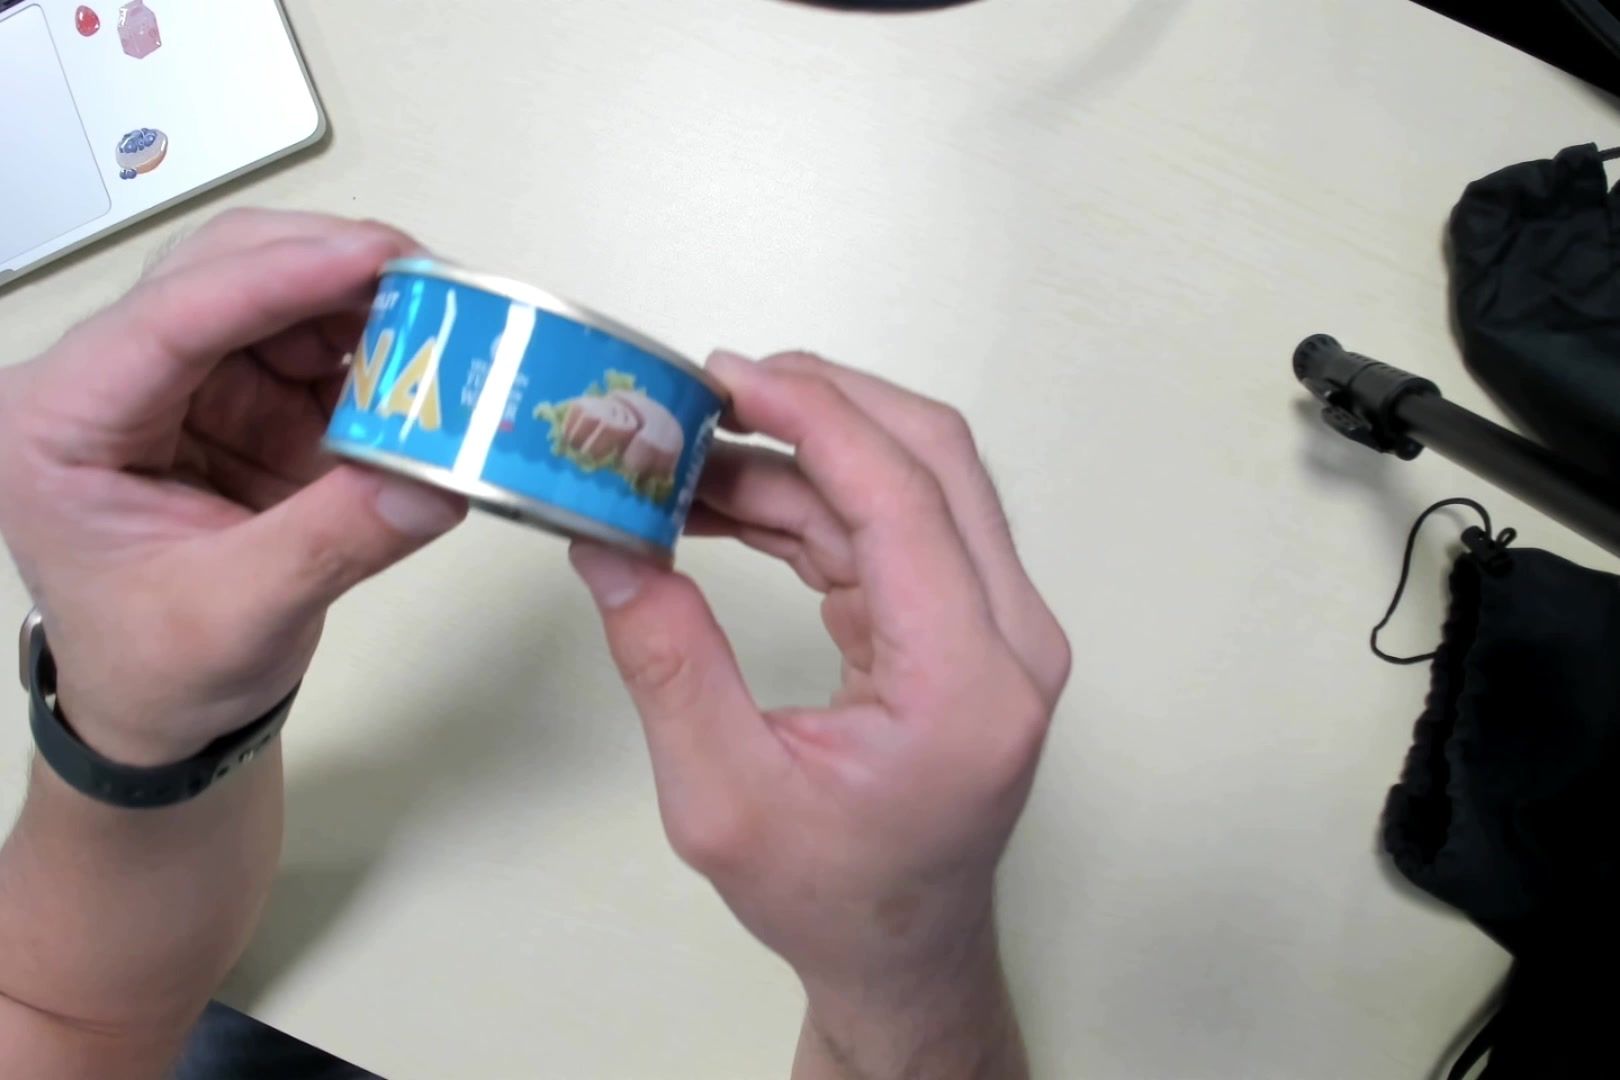CannedTunaDace_0-99g_NonHalal_NonHealthy: (334, 256, 722, 579)
